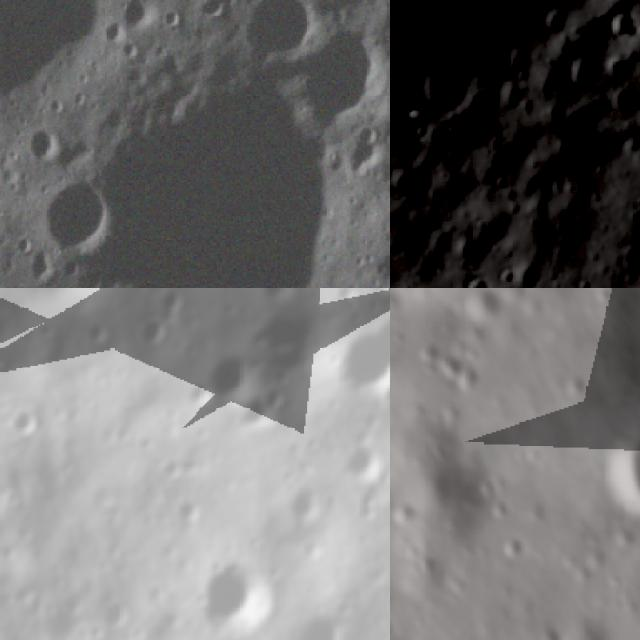crater: (194, 549, 287, 640), (305, 24, 383, 124), (38, 184, 126, 258), (232, 0, 325, 56), (594, 406, 640, 519), (332, 313, 390, 402), (411, 53, 477, 122), (200, 348, 262, 398), (564, 44, 610, 99), (556, 100, 600, 148), (603, 82, 640, 123), (537, 6, 577, 43), (29, 126, 62, 168), (390, 89, 409, 160), (500, 44, 537, 78), (136, 311, 168, 350), (608, 7, 640, 43), (514, 257, 550, 288), (605, 55, 637, 88), (0, 403, 32, 436), (124, 0, 161, 28), (356, 489, 383, 524), (158, 288, 192, 315), (260, 380, 288, 410), (163, 454, 187, 486), (120, 37, 150, 59), (95, 22, 124, 42), (494, 264, 516, 288), (16, 233, 37, 255), (205, 0, 227, 20), (360, 288, 390, 302), (463, 275, 494, 288), (168, 12, 190, 28)
